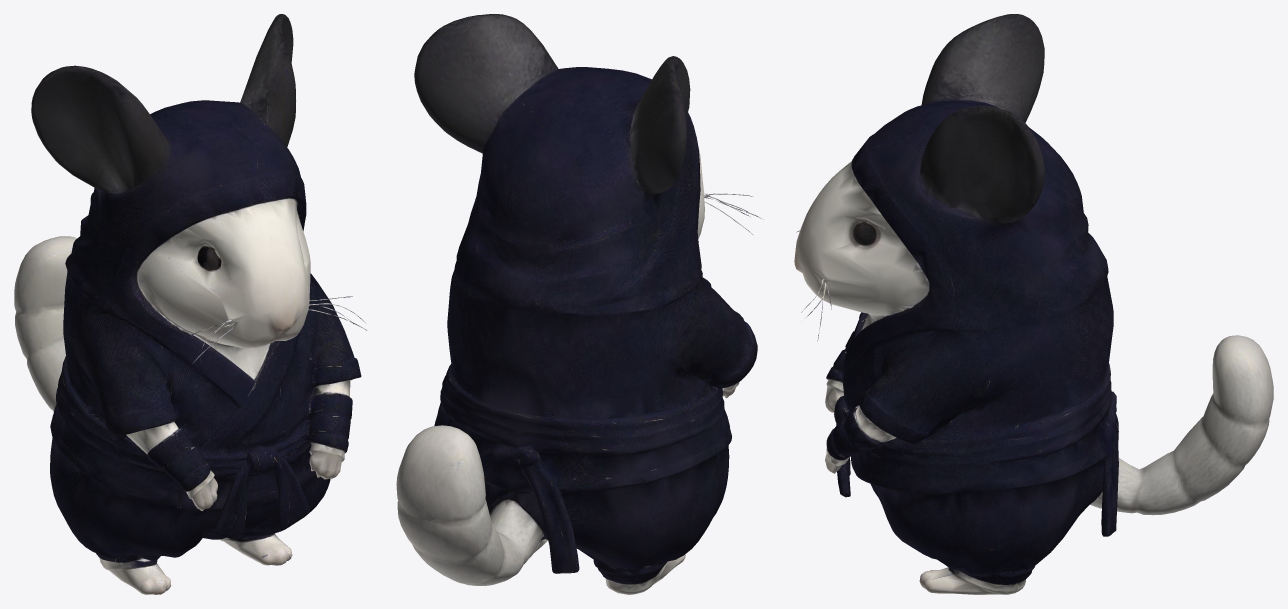
Rendered from costume-ninja_chinchilla-white-pied.glb.
3 views of the same model, side by side, from view 1: azimuth 30°, elevation 25°; view 2: azimuth 150°, elevation 25°; view 3: azimuth 270°, elevation 25° (orthographic). The views are drawn at different scales.
Visible parts, largest first — view 1: Mesh_0; view 2: Mesh_0; view 3: Mesh_0.
Part boxes in pixels (<box>): Mesh_0: <box>14,14,366,594</box>; Mesh_0: <box>396,14,763,594</box>; Mesh_0: <box>794,14,1273,594</box>.
Size of the model in its own units: 1.01 by 1.9 by 1.65.
1 material, 1 textured.
